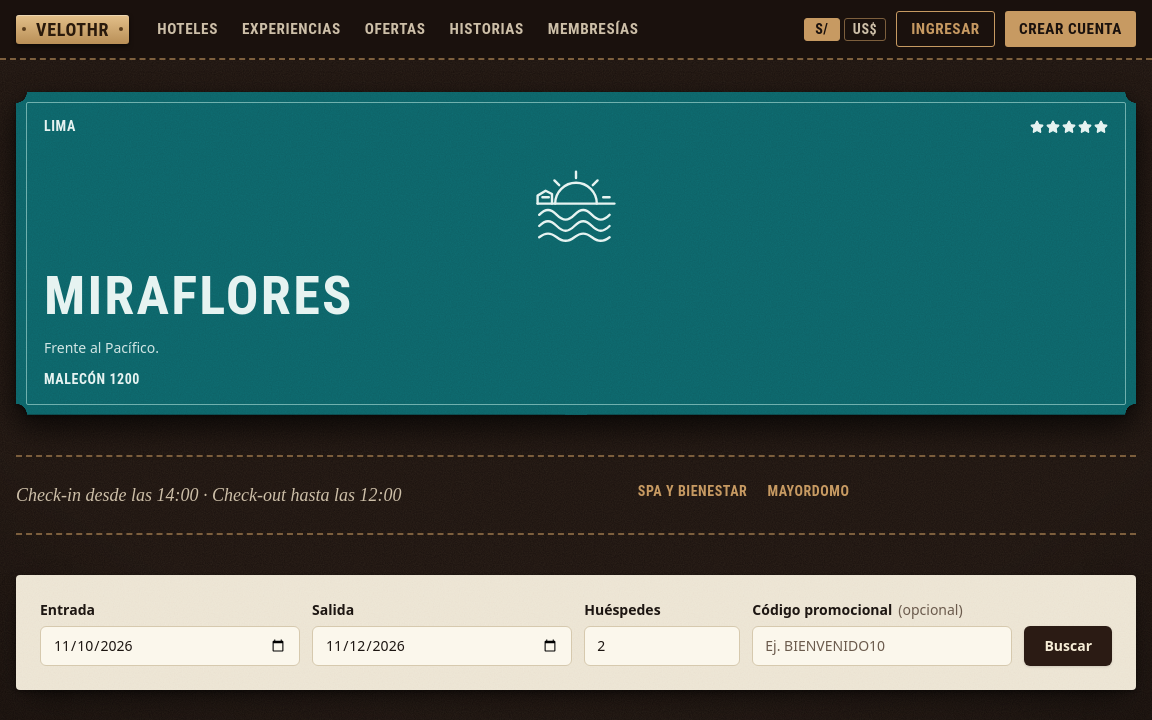
Test case: la web en dos monedas › al elegir dólares vuelve a cotizar en dólares, con el tipo de cambio a la vista
This screenshot has width=1152, height=720.
What coordinates should you click on to do the following:
click the button "US$"
I would click on:
 (865, 29)
Its box is top-left (844, 18), bottom-right (886, 41).
(page scrolled)
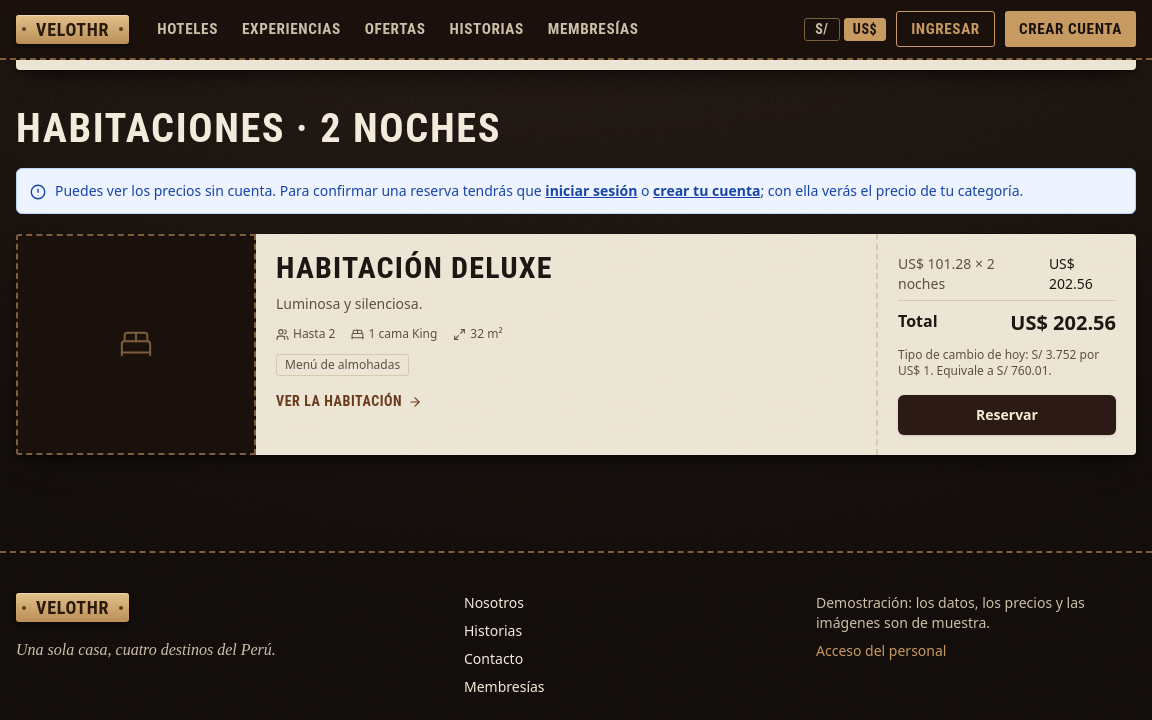
Expected: the text "US$ 202.56" in the row of "US$ 101.28" is shown, top-left (1049, 254), bottom-right (1093, 293)
Expected: the text "US$ 101.28 × 2 noches" is shown, top-left (898, 254), bottom-right (995, 293)
Expected: the text "S/ 3.752 por US$ 1" is shown, top-left (898, 343), bottom-right (1116, 379)
